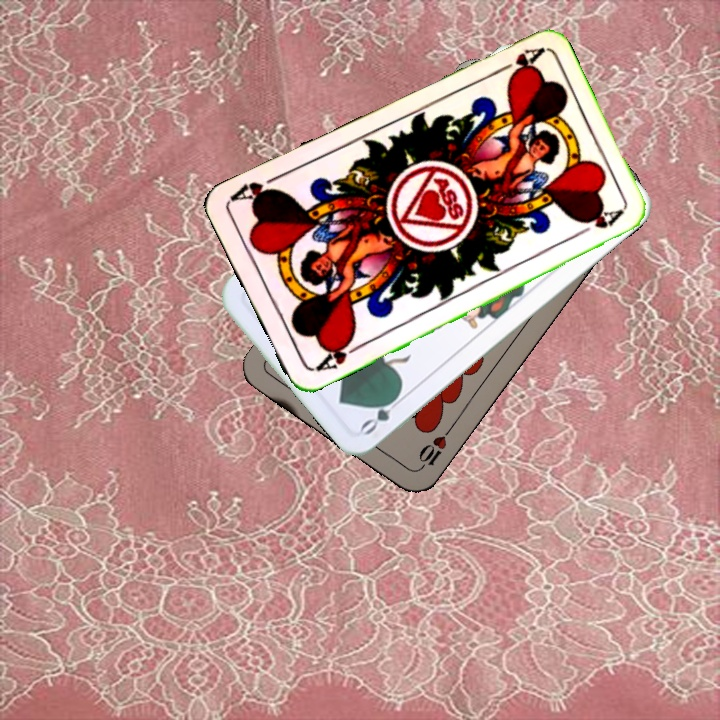GO: (356, 388, 407, 438)
H10: (412, 424, 454, 475)
HA: (309, 333, 365, 375), (489, 43, 545, 82)
